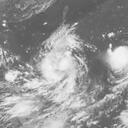cyclone: (37, 27, 89, 89), (108, 46, 127, 73)
